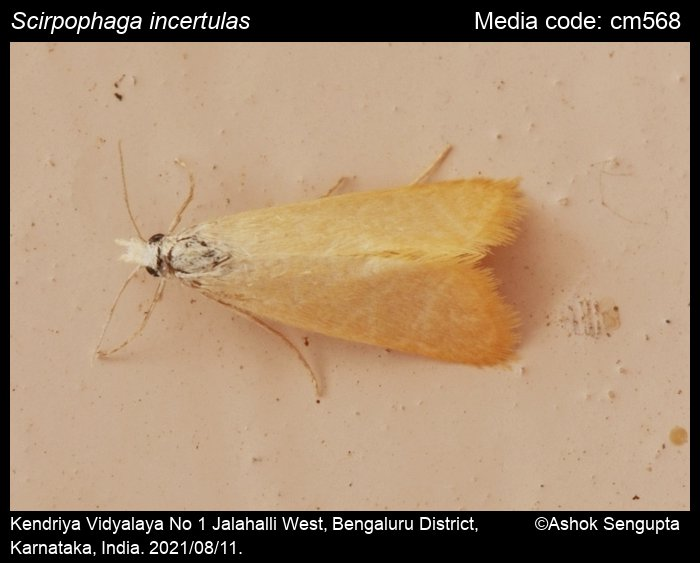Crambidae: (91, 132, 527, 397)
